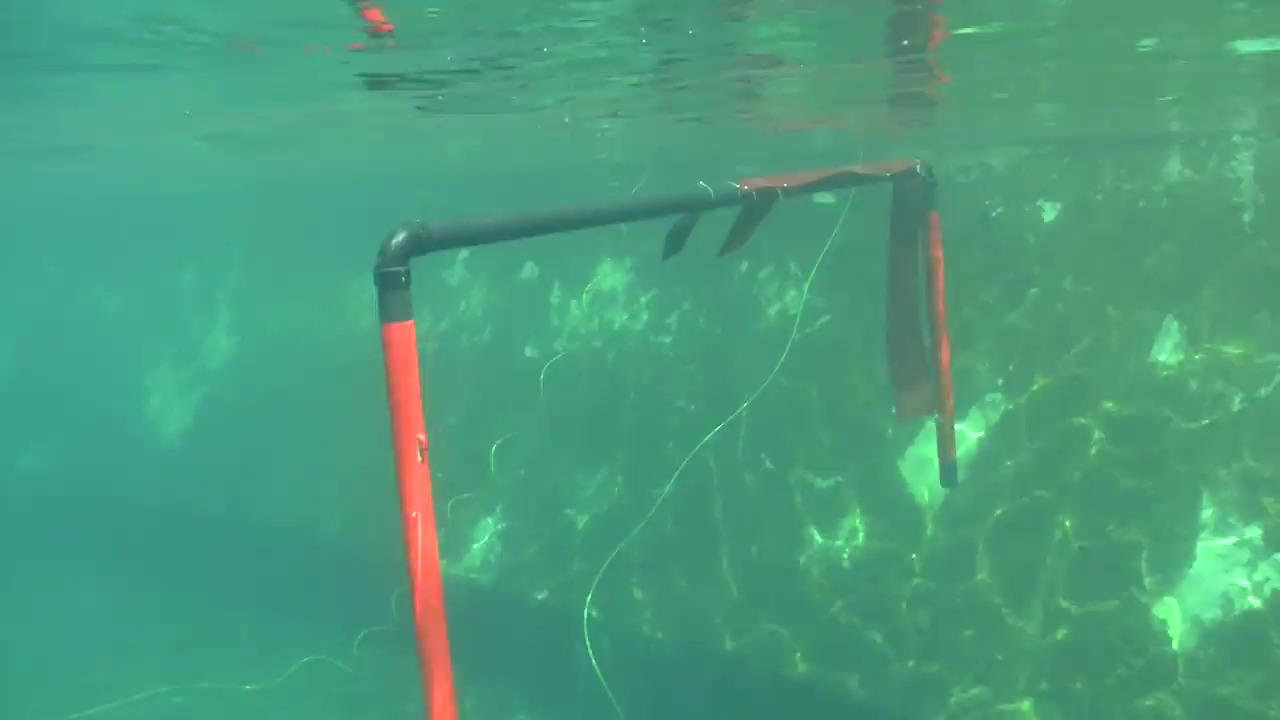gate: (364, 154, 974, 720)
